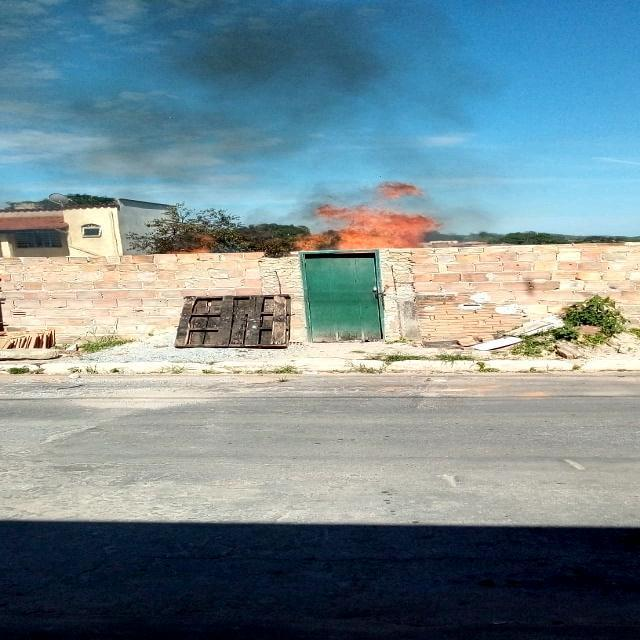Fire: (296, 200, 470, 255)
Smoke: (16, 0, 484, 214)
